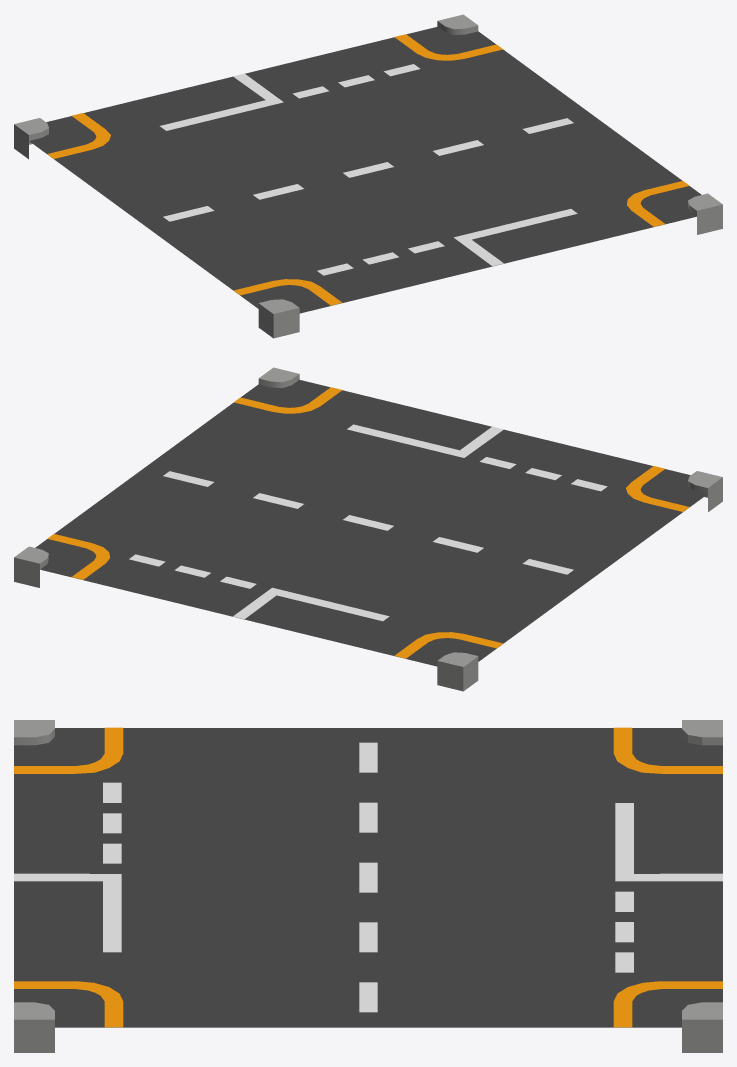
File: Road_A_7.fbx
The picture shows the model from 3 angles, top to bottom: view 1: azimuth 30°, elevation 25°; view 2: azimuth 150°, elevation 25°; view 3: azimuth 270°, elevation 25°; orthographic projection. The views are drawn at different scales.
Visible parts, largest first — view 1: Road_A_7; view 2: Road_A_7; view 3: Road_A_7.
Boxes of the visible parts, box(x1,y1,x2,y2) form: Road_A_7: box(14, 14, 722, 338); Road_A_7: box(14, 367, 722, 691); Road_A_7: box(14, 720, 722, 1052).
Size of the model in its own units: 800 by 41.48 by 800.
